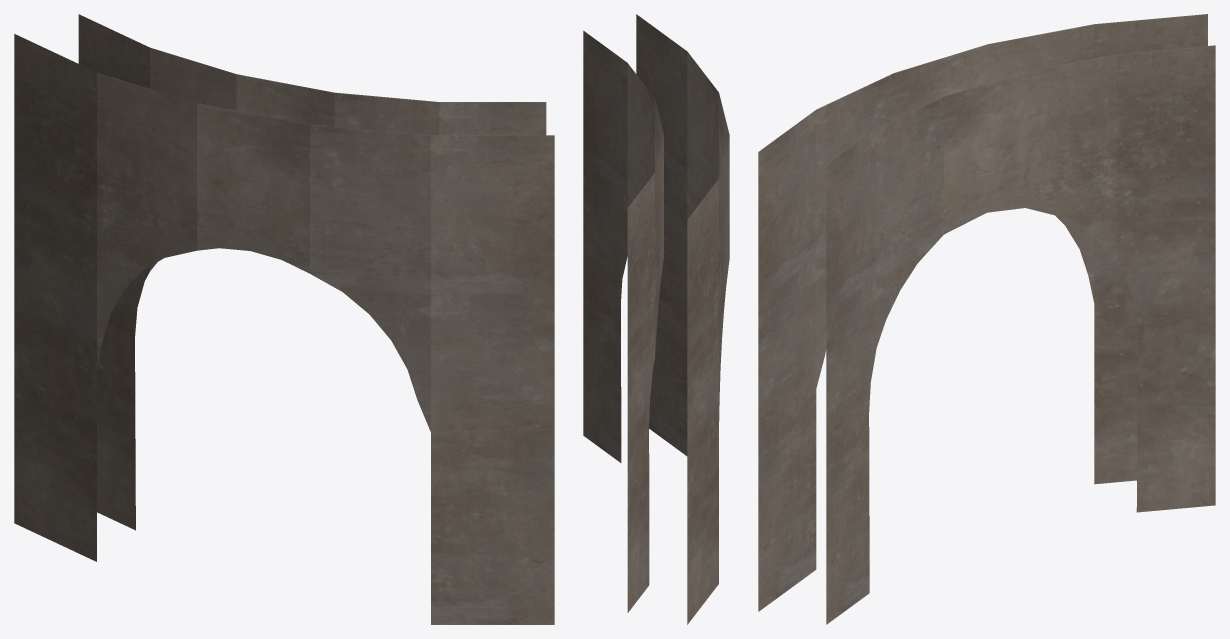
The model's file is StoneTowerAngleWallCutted.fbx.
The picture shows the model from 3 angles, left to right: view 1: azimuth 30°, elevation 25°; view 2: azimuth 150°, elevation 25°; view 3: azimuth 270°, elevation 25°; orthographic projection. The views are drawn at different scales.
Parts seen in each view (by area): view 1: Cylinder.016; view 2: Cylinder.016; view 3: Cylinder.016.
Boxes of the visible parts, x1,y1,x2,y2 form: Cylinder.016: (14, 14, 554, 624); Cylinder.016: (583, 14, 729, 624); Cylinder.016: (758, 14, 1215, 624).
Size of the model in its own units: 1.87 by 2.67 by 2.4.
